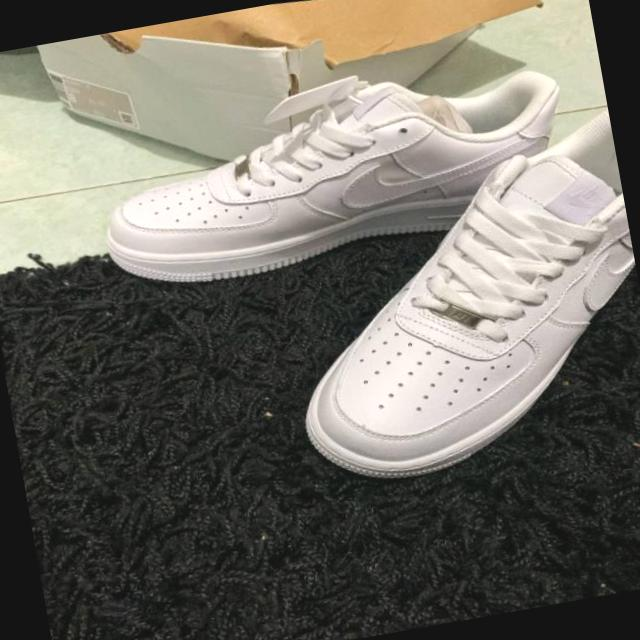nike_original_airforce: (241, 78, 640, 512), (75, 23, 588, 322)
